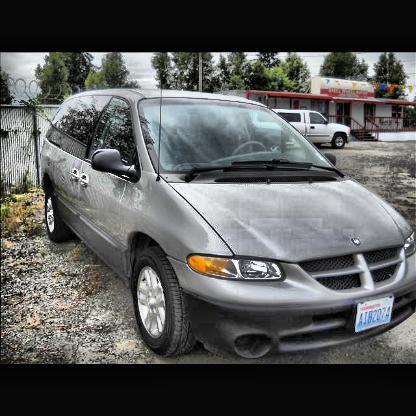Dodge Caravan Minivan 1997: (46, 92, 415, 353)
